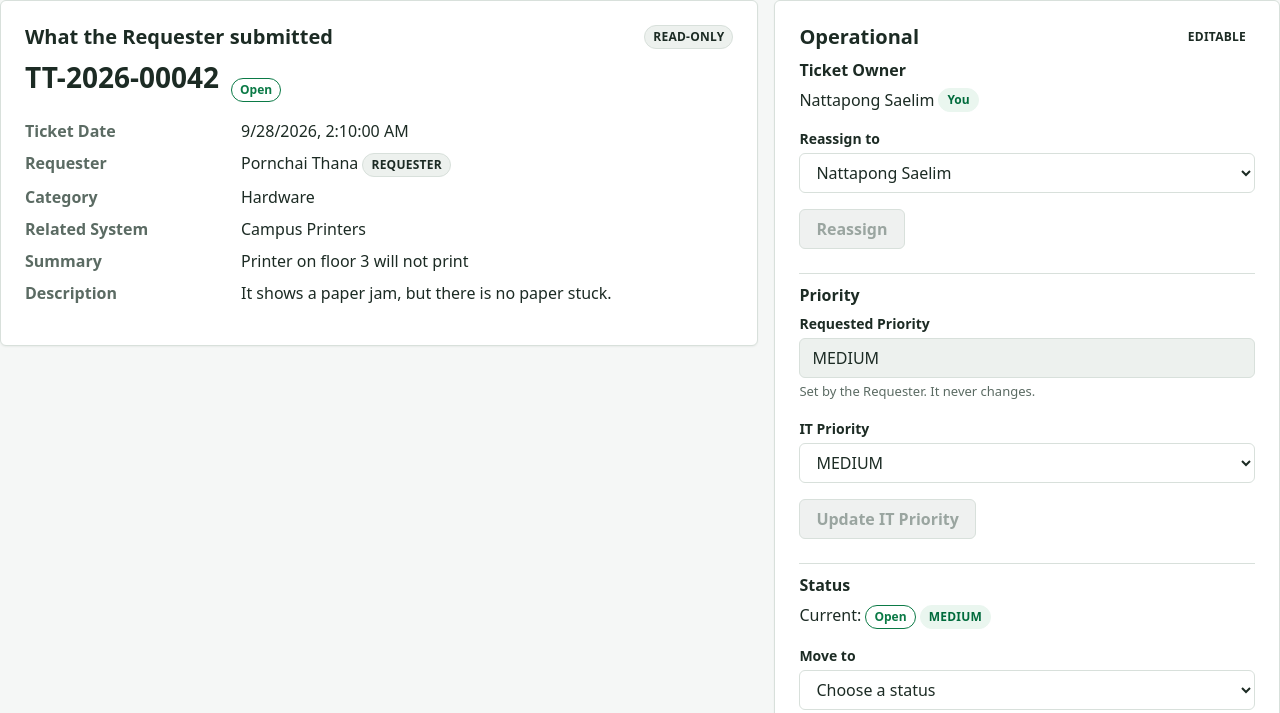
UI-16 priorities (AC-24) › saves a new IT Priority and leaves Requested Priority as it was
This screenshot has width=1280, height=713.
Check: the heading "TT-2026-00042" is shown, box [25,61,219,95]
Check: the button "Update IT Priority" is disabled, box [799,499,976,539]
Step 1. Select "URGENT" in the dropdown labelled "IT Priority" → (1027, 463), box [799,443,1255,483]
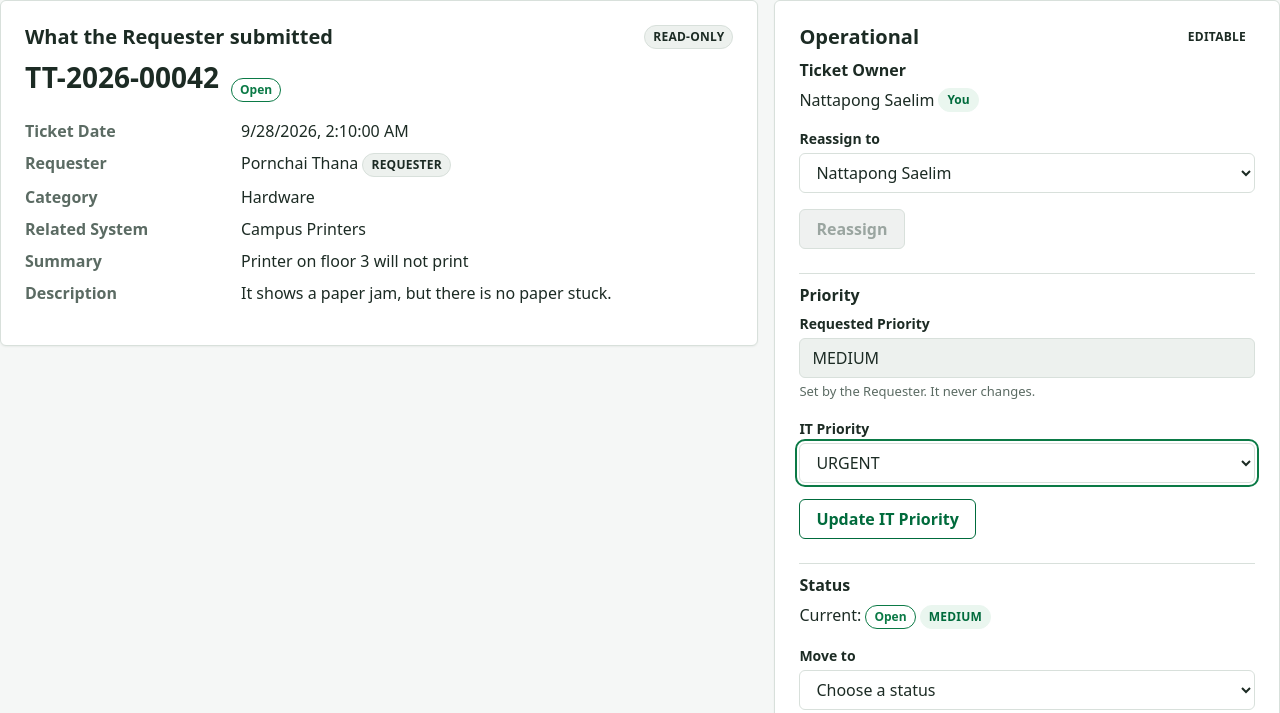
Step 2. Click the button "Update IT Priority" → (888, 519), box [799,499,976,539]
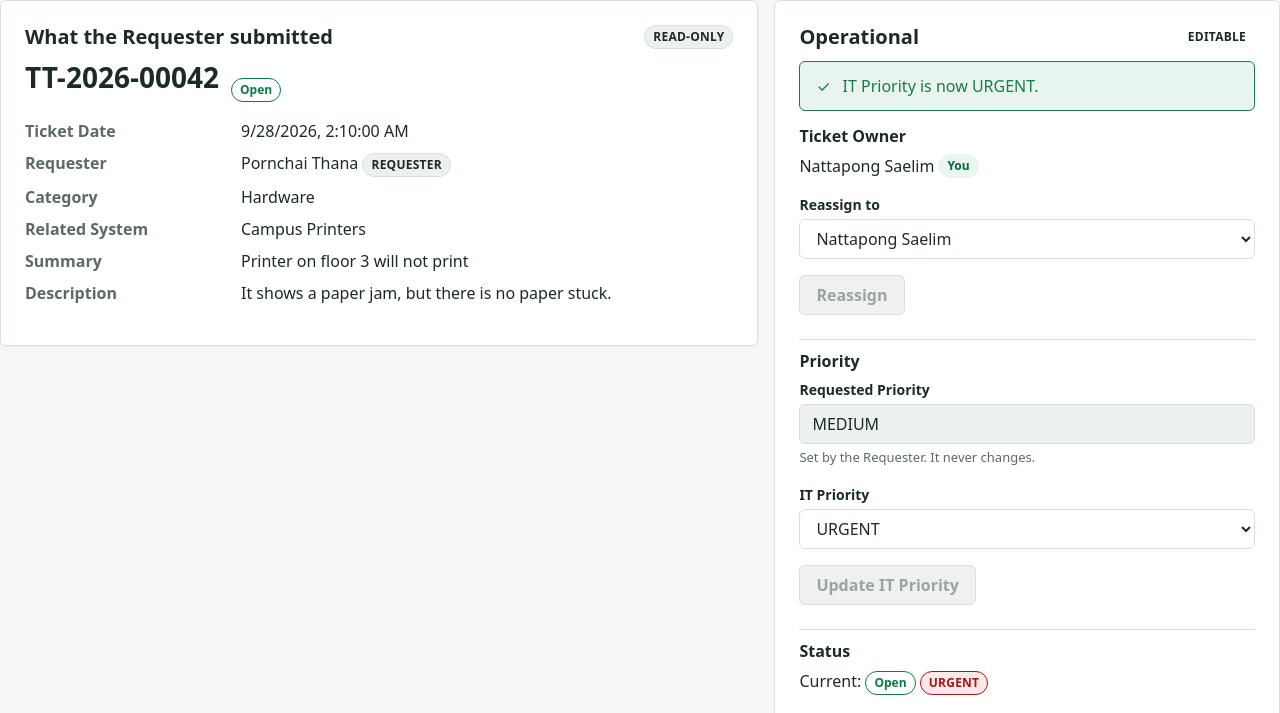
Check: the field labelled "Requested Priority" holds "MEDIUM", box [799,404,1255,444]
Check: the text "IT Priority is now URGENT." is shown, box [842,74,1038,98]
